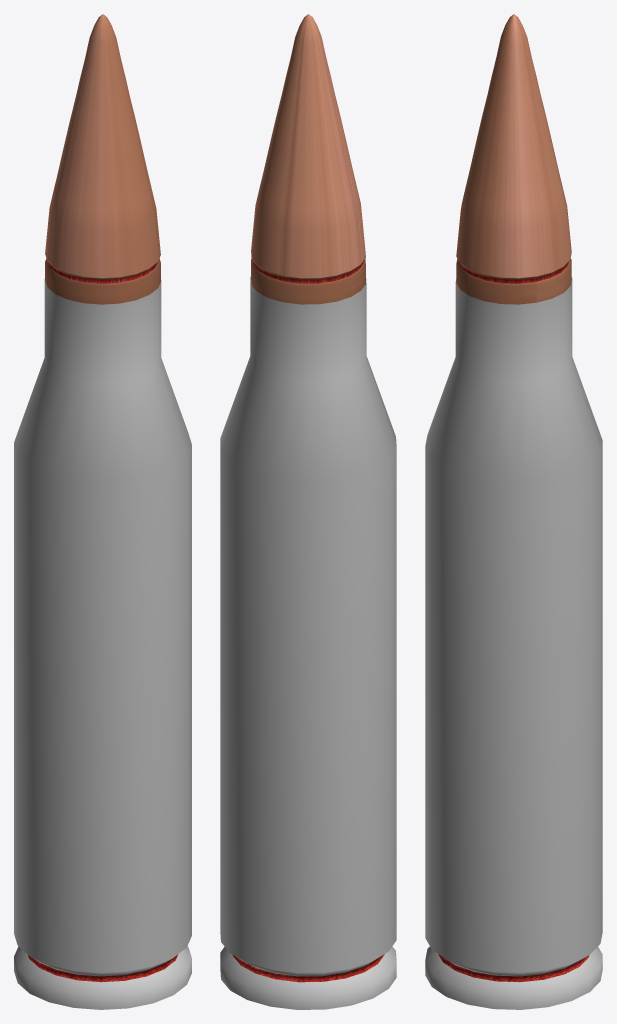
The model's file is Bullets.fbx.
3 views of the same model, side by side, from view 1: azimuth 30°, elevation 25°; view 2: azimuth 150°, elevation 25°; view 3: azimuth 270°, elevation 25° (orthographic).
Parts seen in each view (by area): view 1: pCylinder1, pCylinder8; view 2: pCylinder1, pCylinder8; view 3: pCylinder1, pCylinder8.
Part boxes in pixels (<box>): pCylinder1: <box>14,279,191,1009</box>; pCylinder8: <box>45,14,160,304</box>; pCylinder1: <box>220,276,396,1009</box>; pCylinder8: <box>251,14,365,304</box>; pCylinder1: <box>425,277,602,1009</box>; pCylinder8: <box>456,14,571,304</box>.
Size of the model in its own units: 4.04 by 24.1 by 4.04.
